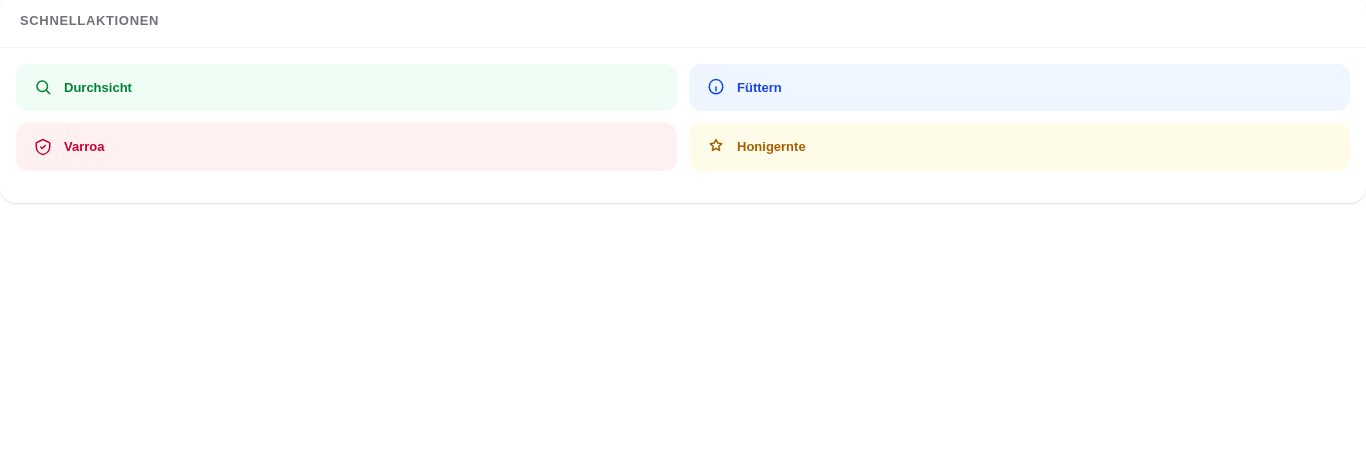
ColonyQuickActions › switches from feeding to varroa form
Click the button "Füttern". click: (759, 87)
box: 689,64 -> 1350,111
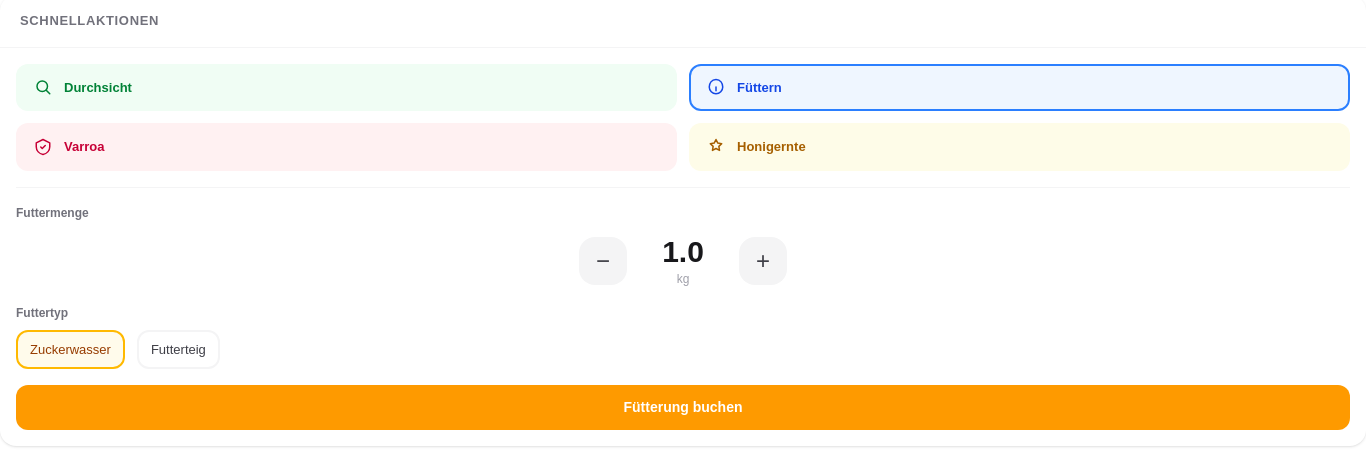
Click the button "Varroa". click: (84, 146)
box: 16,123 -> 677,170
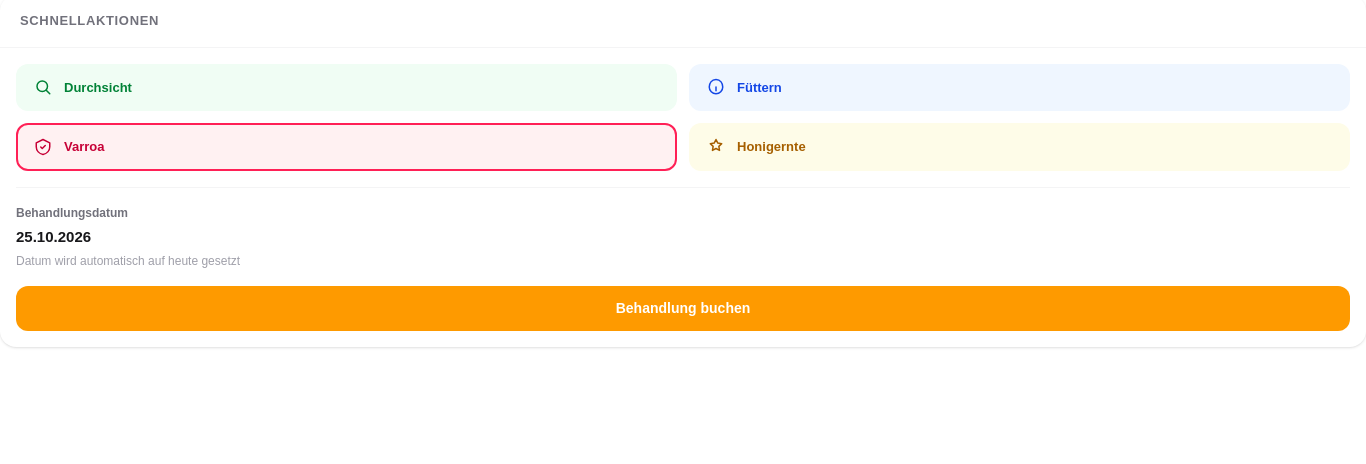
Check: the text "Futtermenge" is gone
Check: the button "Behandlung buchen" is shown, box 16,286 -> 1350,331
